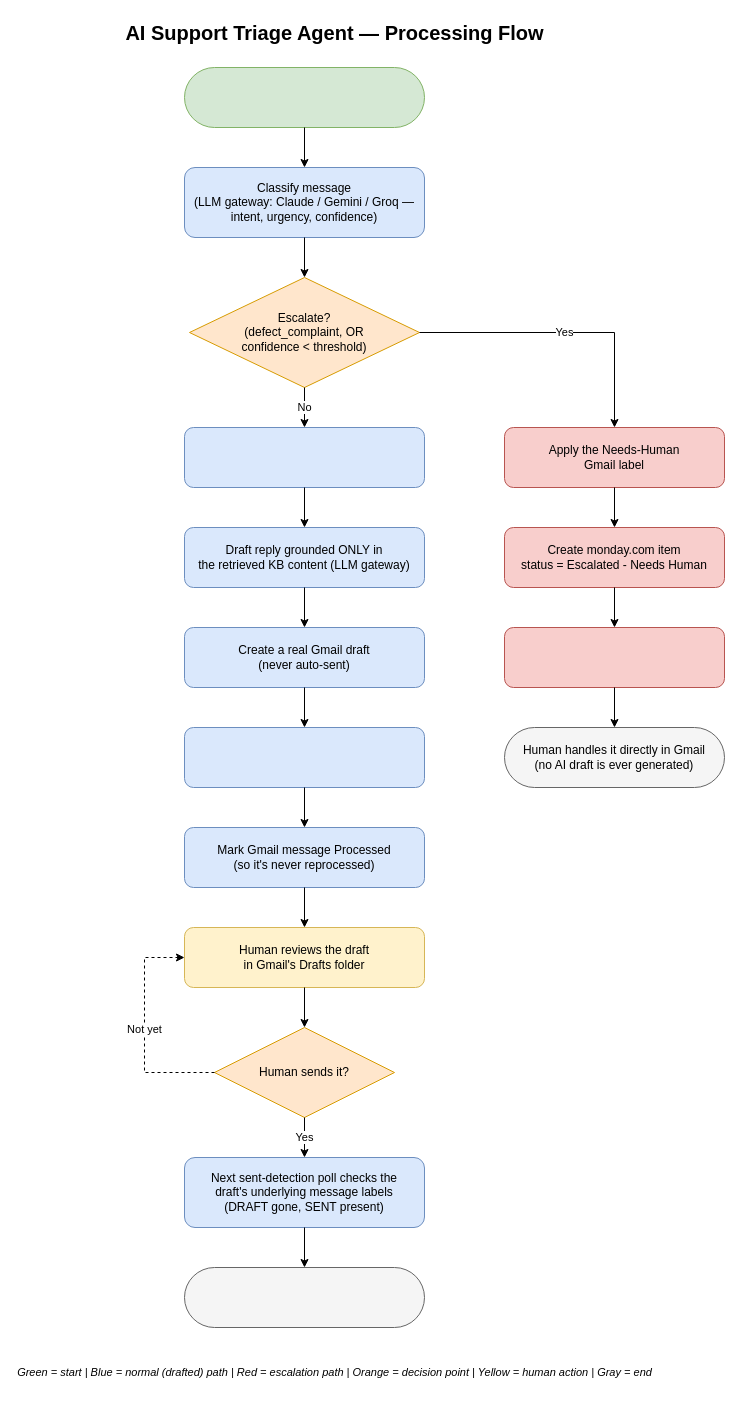
The diagram is 742 pixels wide and 1404 high, and some of its shapes have lost their labels. The box of each missing label's shape, as (x1, y1, x2, y2) in pixels:
Create monday.com item status = Draft Ready for Approval: (184, 726, 424, 788)
Mark Gmail message Processed: (504, 626, 724, 688)
New message arrives (Gmail, under the Triage-Demo label): (184, 66, 424, 128)
Retrieve top-matching KB article (TF-IDF + cosine similarity): (184, 426, 424, 488)
Update monday.com item status = Sent: (184, 1266, 424, 1328)
